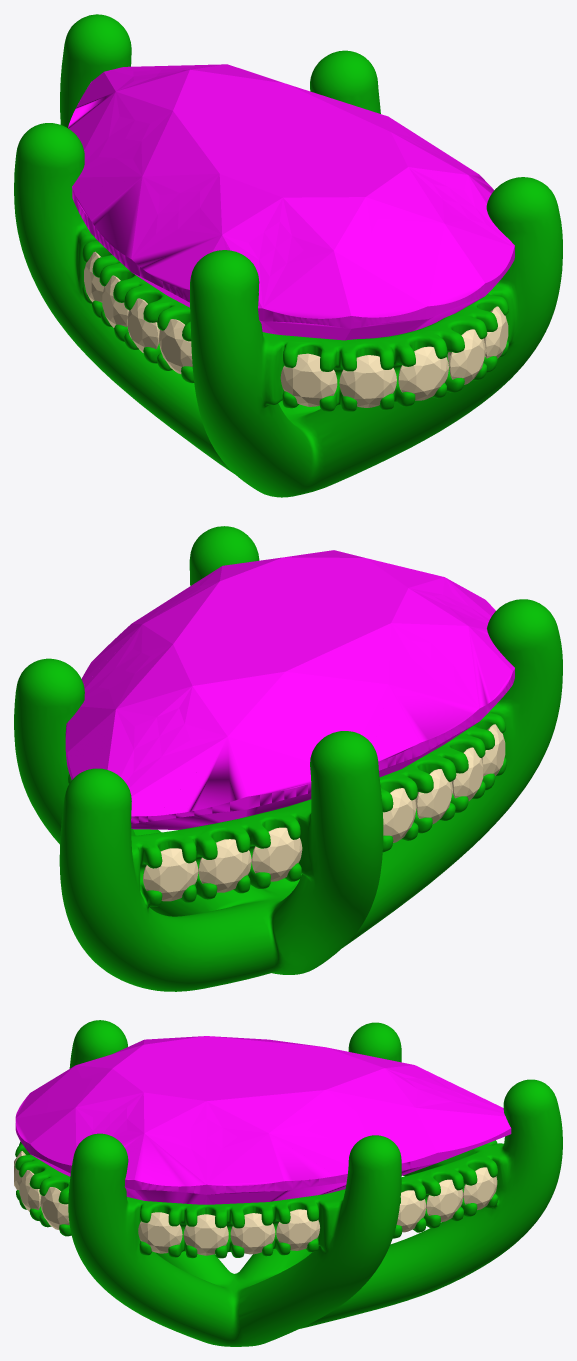
3 renders of one model, top to bottom at view 1: azimuth 30°, elevation 25°; view 2: azimuth 150°, elevation 25°; view 3: azimuth 270°, elevation 25°, orthographic. The views are drawn at different scales.
Parts seen in each view (by area): view 1: Diamond_Pear, Metal01, Diamond_Round.012, Diamond_Round.011, Diamond_Round.013, Diamond_Round.017, Diamond_Round.010, Diamond_Round.009, Diamond_Round.008, Diamond_Round.018, Diamond_Round.007; view 2: Metal01, Diamond_Pear, Diamond_Round.016, Diamond_Round.015, Diamond_Round.014, Diamond_Round.008, Diamond_Round.007, Diamond_Round.009, Diamond_Round.010; view 3: Metal01, Diamond_Pear, Diamond_Round.004, Diamond_Round.003, Diamond_Round.005, Diamond_Round.006, Diamond_Round.001, Diamond_Round, Diamond_Round.002, Diamond_Round.018, Diamond_Round.017.
Part boxes in pixels (bbox=[...]): Diamond_Pear: bbox=[68, 64, 514, 340]; Metal01: bbox=[14, 14, 562, 497]; Diamond_Round.012: bbox=[339, 355, 396, 407]; Diamond_Round.011: bbox=[280, 353, 337, 406]; Diamond_Round.013: bbox=[398, 346, 448, 400]; Diamond_Round.017: bbox=[447, 329, 485, 384]; Diamond_Round.010: bbox=[158, 319, 192, 373]; Diamond_Round.009: bbox=[127, 298, 159, 352]; Diamond_Round.008: bbox=[102, 275, 128, 327]; Diamond_Round.018: bbox=[484, 306, 508, 358]; Diamond_Round.007: bbox=[84, 251, 104, 302]; Metal01: bbox=[14, 526, 562, 991]; Diamond_Pear: bbox=[65, 550, 514, 829]; Diamond_Round.016: bbox=[143, 848, 198, 901]; Diamond_Round.015: bbox=[198, 839, 251, 892]; Diamond_Round.014: bbox=[251, 827, 302, 881]; Diamond_Round.008: bbox=[415, 769, 452, 824]; Diamond_Round.007: bbox=[383, 788, 416, 842]; Diamond_Round.009: bbox=[451, 747, 483, 801]; Diamond_Round.010: bbox=[481, 724, 505, 776]; Metal01: bbox=[15, 1020, 562, 1346]; Diamond_Pear: bbox=[15, 1036, 511, 1204]; Diamond_Round.004: bbox=[183, 1214, 228, 1255]; Diamond_Round.003: bbox=[138, 1212, 182, 1253]; Diamond_Round.005: bbox=[230, 1213, 275, 1254]; Diamond_Round.006: bbox=[276, 1209, 319, 1250]; Diamond_Round.001: bbox=[426, 1179, 463, 1221]; Diamond_Round: bbox=[463, 1167, 497, 1210]; Diamond_Round.002: bbox=[396, 1190, 426, 1232]; Diamond_Round.018: bbox=[40, 1187, 69, 1230]; Diamond_Round.017: bbox=[19, 1170, 41, 1211].
Size of the model in its own units: 8.35 by 7.64 by 14.01.
